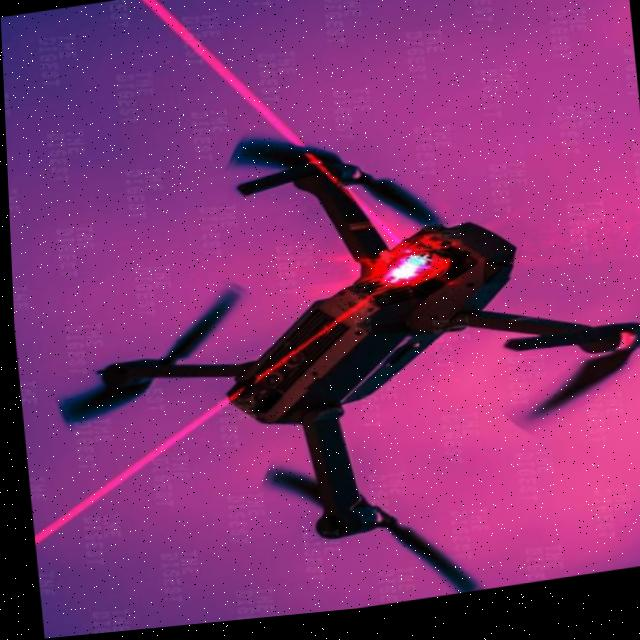drones: (9, 67, 640, 640)
